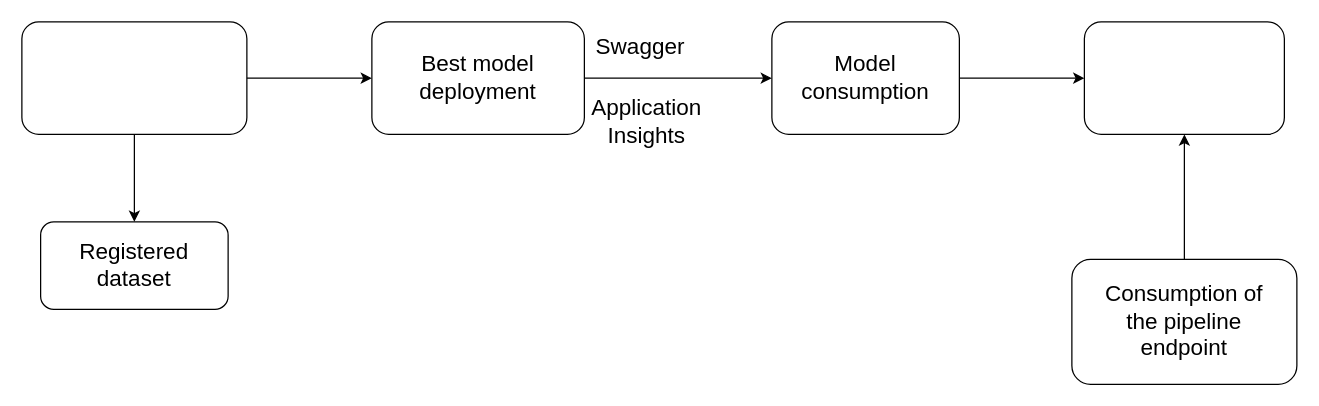
The diagram is 1319 pixels wide and 406 high, and some of its shapes have lost their labels. The centre of each missing label's shape, as x and y in pixels:
Model training using AutoML: point (134, 77)
Pipeline of the process: point (1183, 77)
